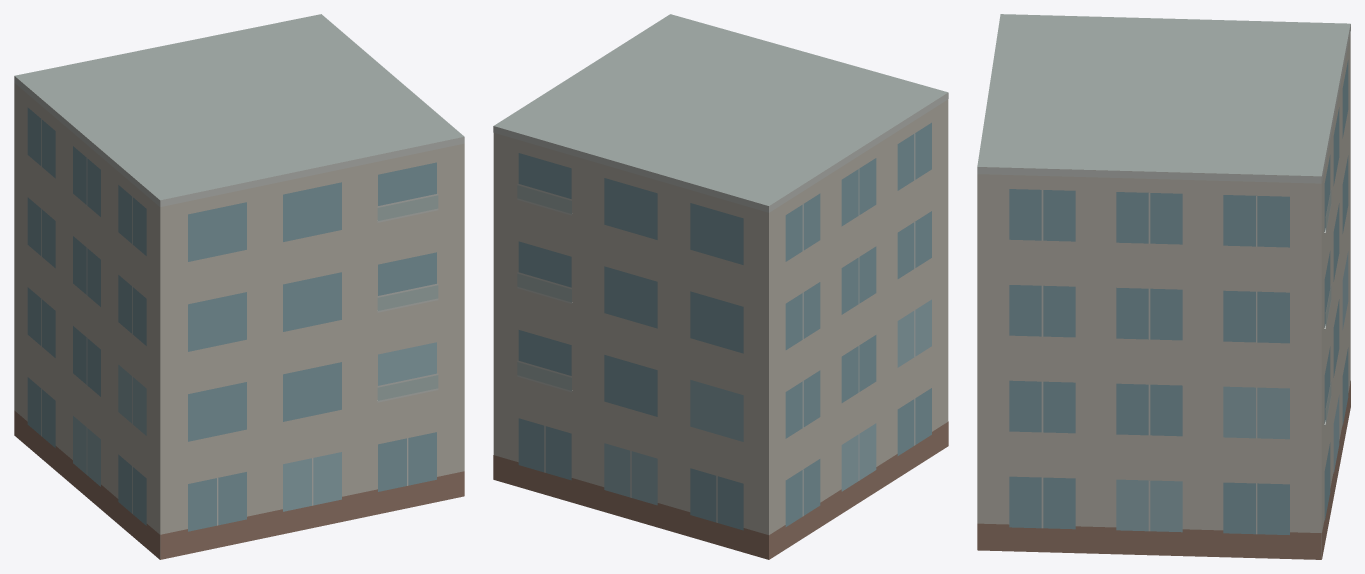
File: survey-upis-33014284.glb
3 views of the same model, side by side, from view 1: azimuth 30°, elevation 25°; view 2: azimuth 150°, elevation 25°; view 3: azimuth 270°, elevation 25° (orthographic). The views are drawn at different scales.
Parts seen in each view (by area): view 1: survey-upis-33014284.tmp; view 2: survey-upis-33014284.tmp; view 3: survey-upis-33014284.tmp.
Boxes of the visible parts, <box> form: survey-upis-33014284.tmp: <box>14,14,464,559</box>; survey-upis-33014284.tmp: <box>493,14,948,559</box>; survey-upis-33014284.tmp: <box>977,14,1350,559</box>.
Bounding box in the file's own units: 11.63 × 12.8 × 11.31.
